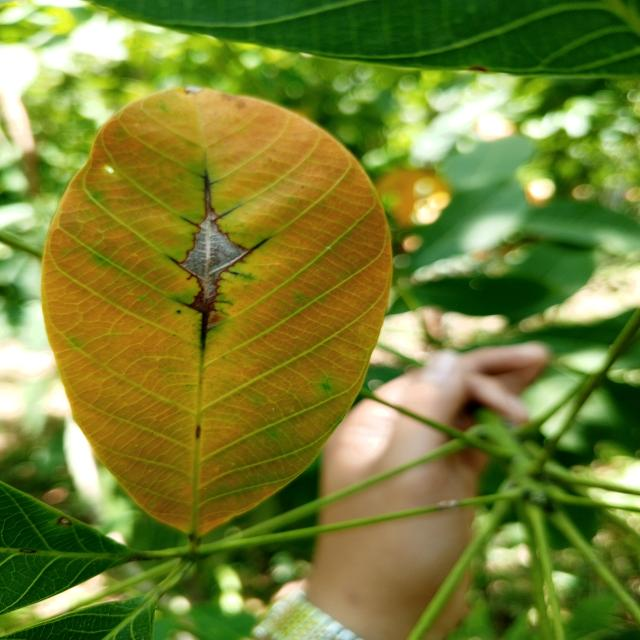Colletotrichum: (56, 517, 72, 526)
Corynespora: (161, 167, 271, 349)
